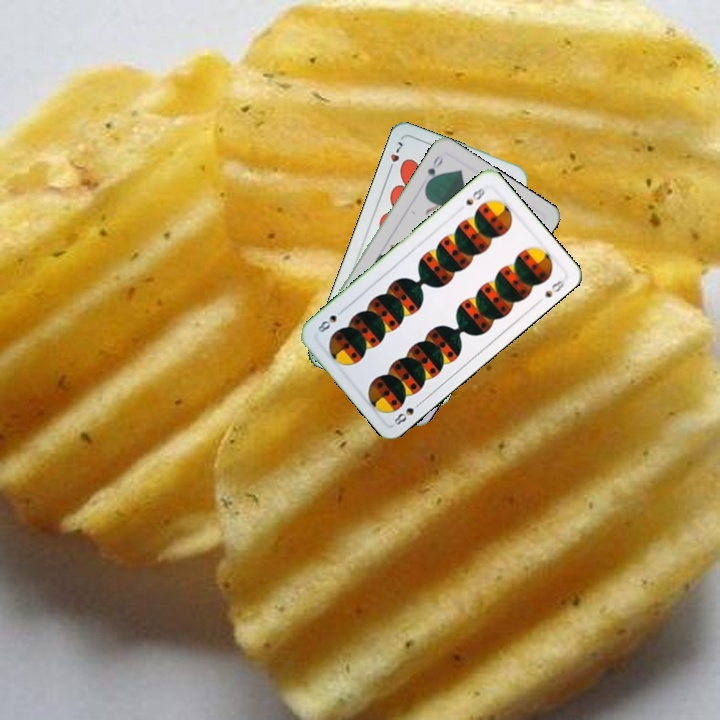GO: (422, 151, 446, 188)
H7: (384, 137, 405, 175)
S8: (390, 397, 425, 428), (462, 183, 488, 208)
